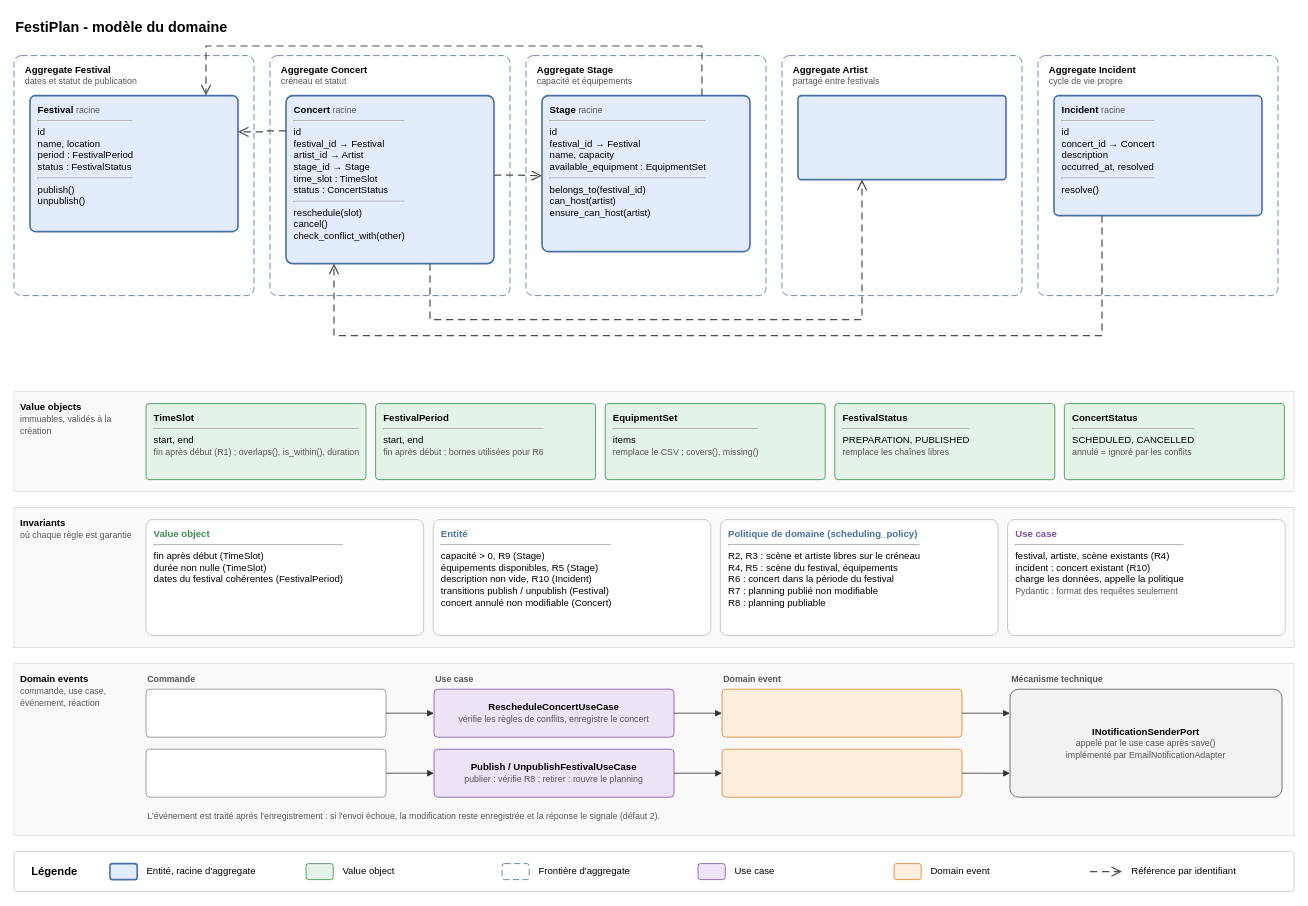
This 1308x906 diagram has some shape labels left out. The centre of each missing label's shape, as x and y in pixels:
"Artist racine id name, genre required_equipment : EquipmentSet" goes at [901,137].
"ConcertRescheduled concert_id, ancien et nouveau créneau" goes at [841,712].
"FestivalPublished / FestivalUnpublished festival_id, festival_name, date" goes at [841,772].
"PublishFestival / UnpublishFestival festival_id" goes at [265,772].
"RescheduleConcert concert_id, start, end" goes at [265,712].
